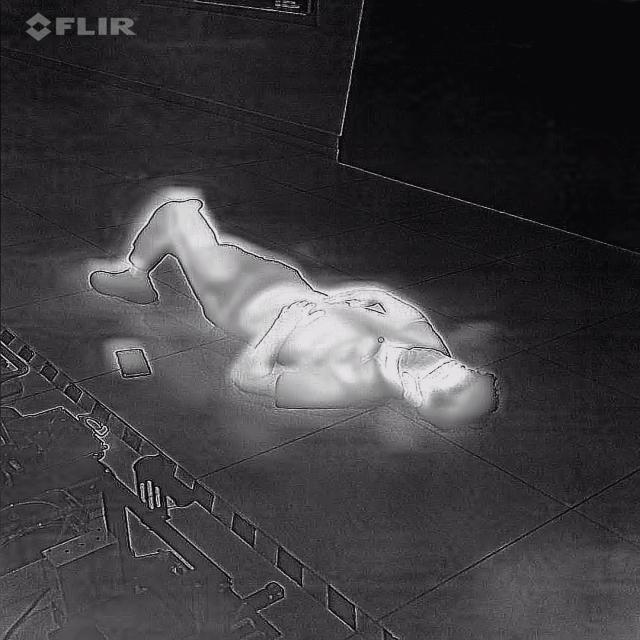Victim: (84, 176, 508, 445)
